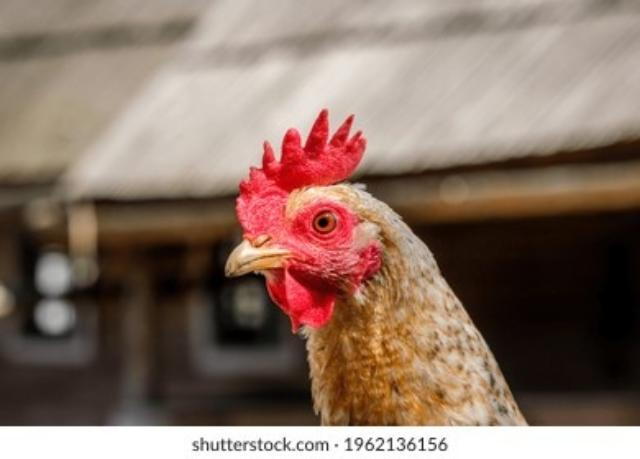Chicken: (223, 112, 531, 425)
